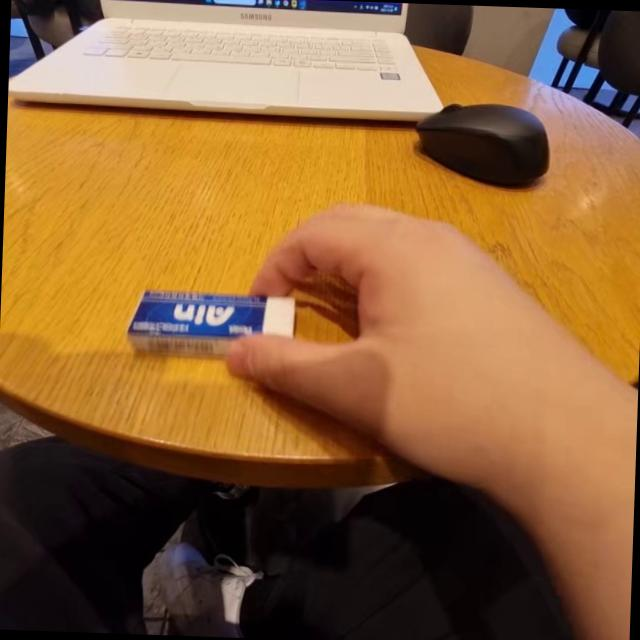eraser: (114, 274, 294, 354)
grab_eraser: (116, 177, 538, 483)
hand: (239, 203, 553, 455)
mouse: (404, 88, 580, 196)
